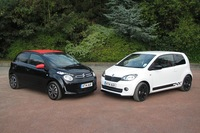car: (100, 50, 192, 102), (8, 49, 96, 100)
